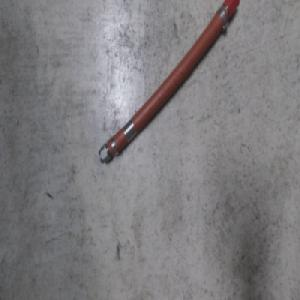Hose: (95, 0, 238, 168)
